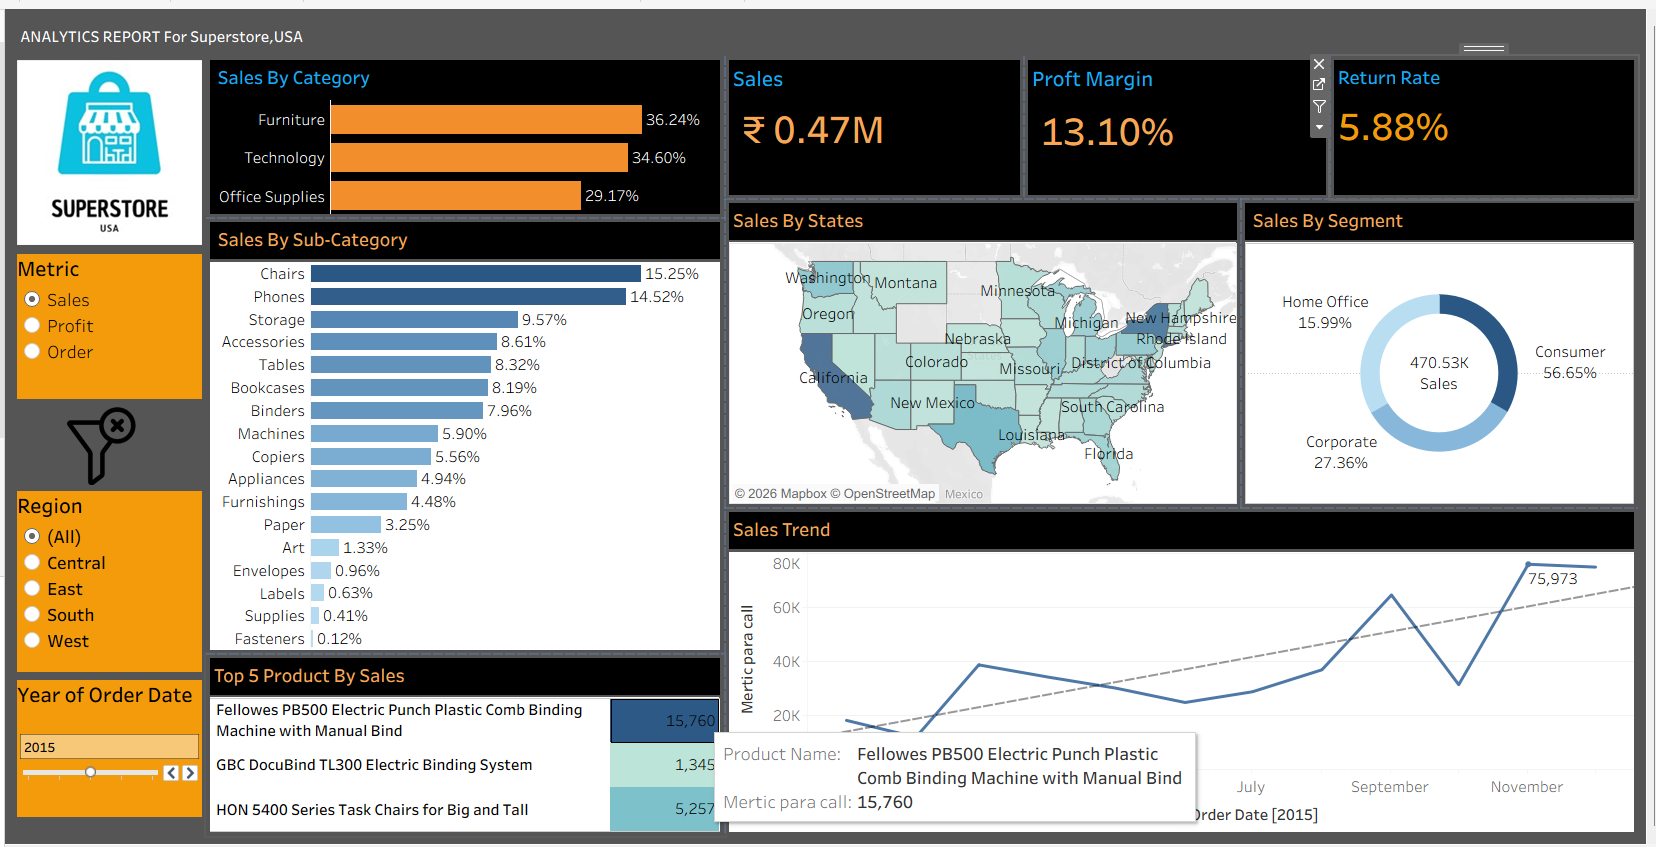

Layout of this report page (visuals, bound fields, positions):
{"tool":"tableau","page":{"name":"Dashboard 1","canvas":[1000,1000],"units":"permille","ordinal":0},"visuals":[{"type":"text","box":[4.9,9.6,990.2,46.3]},{"type":"image","param":"Image/Picture1.jpg","box":[4.9,55.9,117.6,232.8]},{"type":"worksheet","title":"Category","mark":"Automatic","rows":["Category"],"cols":["Calculation_276126987772780554"],"box":[122.5,55.9,315.9,194.6]},{"type":"worksheet","title":"Metric","mark":"Automatic","box":[438.5,55.9,182.5,171.1]},{"type":"worksheet","title":"Profit Margin","mark":"Automatic","box":[621,55.9,186.5,171.1]},{"type":"worksheet","title":"Return Rate","mark":"Automatic","box":[807.4,55.9,187.7,171.1]},{"type":"worksheet","title":"Map","mark":"Multipolygon","box":[438.5,227,314.6,370.4]},{"type":"worksheet","title":"Segement","mark":"Pie","rows":["Calculation_276126987799011343","Calculation_276126987799044113"],"box":[753,227,242.1,370.4]},{"type":"worksheet","title":"Sub-Category","mark":"Automatic","rows":["Sub-Category"],"cols":["Calculation_276126987772780554"],"box":[122.5,250.5,315.9,522.1]},{"type":"parameter","param":"[Parameters].[Parameter 2]","box":[4.9,288.7,117.6,183.2]},{"type":"dashboard-object","box":[29.9,476.7,57.3,93.4]},{"type":"filter","title":"Metric","param":"[federated.0jqyv7w1nteeio1f5tnp10j4epwb].[none:Region:nk]","box":[4.9,571.9,117.6,226.3]},{"type":"worksheet","title":"Line chart","mark":"Automatic","rows":["Calculation_276126987772780554"],"cols":["Order Date"],"box":[438.5,597.4,556.7,393.1]},{"type":"worksheet","title":"Top 5 Product ","mark":"Square","rows":["Product Name"],"box":[122.5,772.6,315.9,217.8]},{"type":"filter","title":"Metric","param":"[federated.0jqyv7w1nteeio1f5tnp10j4epwb].[yr:Order Date:ok]","box":[4.9,798.3,117.6,173.7]}]}

Visuals, with their boxes on the dashboard's canvas, which has no fixed pixel size, in thousandths of its width and height (x1, y1, x2, y2). These are canvas units, not pixel positions in the 1656x847 screenshot, which may show the page scaled, cropped or inside an application window:
text: x1=5 y1=10 x2=995 y2=56
image: x1=5 y1=56 x2=122 y2=289
"Category" worksheet: x1=122 y1=56 x2=438 y2=250
"Metric" worksheet: x1=438 y1=56 x2=621 y2=227
"Profit Margin" worksheet: x1=621 y1=56 x2=808 y2=227
"Return Rate" worksheet: x1=807 y1=56 x2=995 y2=227
"Map" worksheet (Multipolygon marks): x1=438 y1=227 x2=753 y2=597
"Segement" worksheet (Pie marks): x1=753 y1=227 x2=995 y2=597
"Sub-Category" worksheet: x1=122 y1=250 x2=438 y2=773
parameter: x1=5 y1=289 x2=122 y2=472
dashboard-object: x1=30 y1=477 x2=87 y2=570
"Metric" filter: x1=5 y1=572 x2=122 y2=798
"Line chart" worksheet: x1=438 y1=597 x2=995 y2=990
"Top 5 Product " worksheet (Square marks): x1=122 y1=773 x2=438 y2=990
"Metric" filter: x1=5 y1=798 x2=122 y2=972
